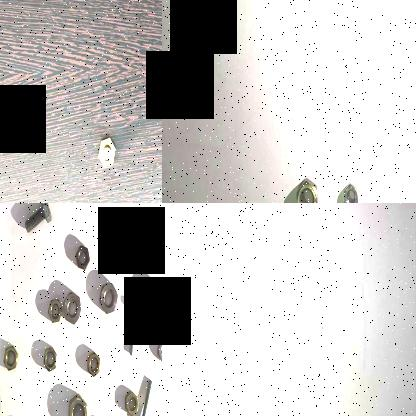Bolts: (21, 203, 53, 239), (96, 126, 118, 172), (126, 298, 142, 356), (135, 377, 153, 416)
NUTS: (97, 271, 119, 317), (141, 275, 162, 315), (61, 290, 83, 326), (293, 175, 318, 203), (66, 390, 89, 416), (74, 240, 92, 272), (41, 344, 59, 373), (84, 350, 102, 378), (46, 296, 62, 324), (341, 182, 359, 203), (3, 345, 18, 370), (124, 390, 138, 416), (156, 335, 162, 365)
